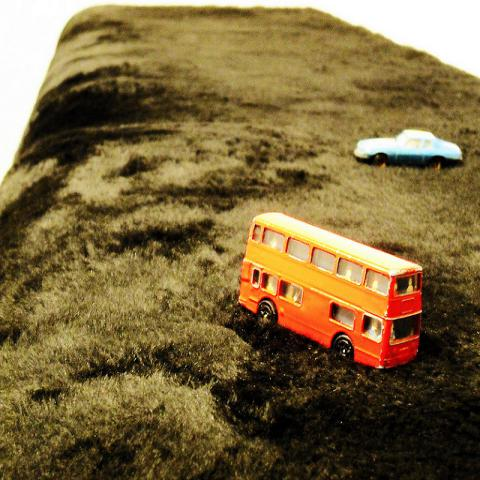bus: (239, 212, 424, 372)
car: (352, 129, 462, 170)
